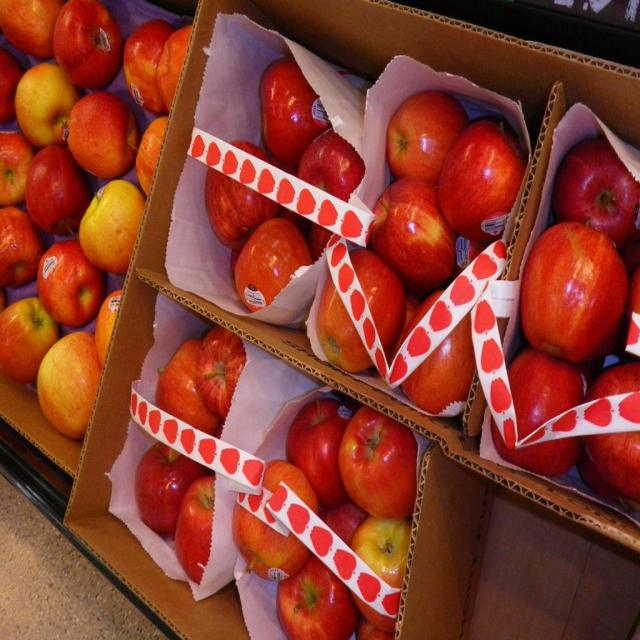Healty Apple: (0, 0, 193, 438), (314, 96, 522, 412), (230, 398, 418, 639), (515, 210, 623, 354), (492, 346, 590, 481), (556, 139, 640, 249), (204, 138, 277, 253), (584, 362, 640, 498), (232, 218, 312, 313), (256, 61, 328, 164), (152, 335, 224, 437), (134, 441, 206, 541), (294, 130, 364, 200), (195, 324, 244, 423), (173, 470, 215, 584), (574, 455, 632, 507), (628, 266, 640, 358), (308, 220, 334, 258), (230, 234, 248, 266), (214, 420, 225, 437)
